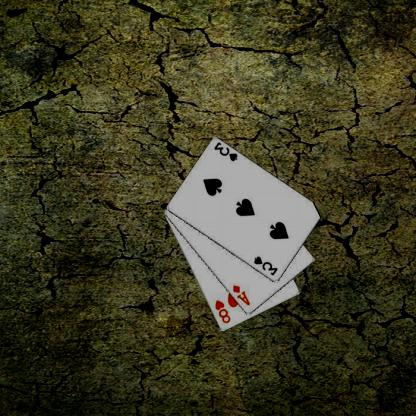3S: (253, 254, 281, 277), (213, 140, 241, 162)
8H: (214, 298, 233, 325)
AD: (232, 283, 253, 307)
